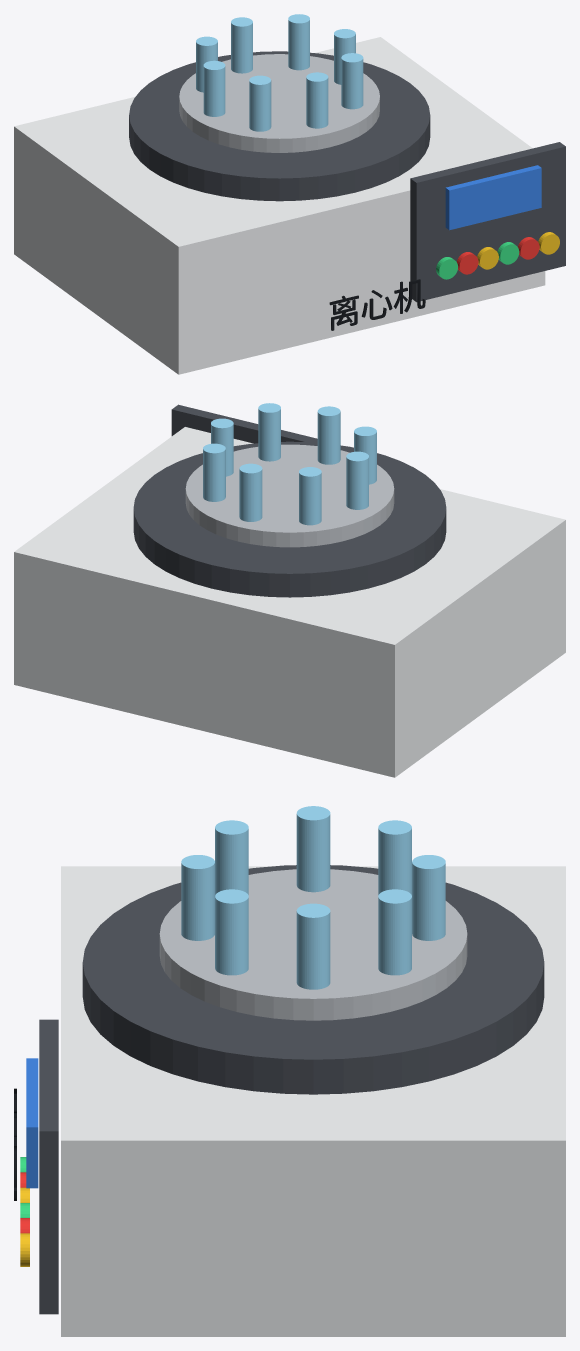
File: asset_centrifuge.glb
3 renders of one model, top to bottom at view 1: azimuth 30°, elevation 25°; view 2: azimuth 150°, elevation 25°; view 3: azimuth 270°, elevation 25°, orthographic. The views are drawn at different scales.
Parts seen in each view (by area): view 1: base, round_lid, centrifuge_panel, rotor, centrifuge_screen, asset_label, tube_6, tube_5, tube_7, tube_4, tube_2, tube_1 (+2 smaller); view 2: base, round_lid, rotor, centrifuge_panel, tube_6, tube_2, tube_7, tube_3, tube_4, tube_1, tube_0, tube_5; view 3: base, round_lid, rotor, centrifuge_panel, tube_0, tube_4, tube_1, tube_7, tube_2, tube_6, tube_5, tube_3 (+1 smaller).
Part boxes in pixels (x1=…): base: x1=14, y1=37, x2=545, y2=374; round_lid: x1=129, y1=51, x2=430, y2=201; centrifuge_panel: x1=410, y1=142, x2=565, y2=302; rotor: x1=179, y1=54, x2=379, y2=152; centrifuge_screen: x1=445, y1=165, x2=541, y2=230; asset_label: x1=329, y1=279, x2=425, y2=330; tube_6: x1=306, y1=72, x2=328, y2=128; tube_5: x1=249, y1=75, x2=271, y2=131; tube_7: x1=341, y1=53, x2=363, y2=109; tube_4: x1=203, y1=60, x2=225, y2=116; tube_2: x1=231, y1=17, x2=252, y2=73; tube_1: x1=288, y1=14, x2=309, y2=70; base: x1=14, y1=427, x2=565, y2=777; round_lid: x1=133, y1=441, x2=446, y2=597; rotor: x1=185, y1=444, x2=394, y2=547; centrifuge_panel: x1=171, y1=404, x2=317, y2=443; tube_6: x1=317, y1=406, x2=340, y2=464; tube_2: x1=239, y1=463, x2=262, y2=521; tube_7: x1=258, y1=403, x2=280, y2=461; tube_3: x1=299, y1=467, x2=321, y2=525; tube_4: x1=346, y1=451, x2=368, y2=509; tube_1: x1=203, y1=443, x2=225, y2=501; tube_0: x1=211, y1=418, x2=233, y2=476; tube_5: x1=354, y1=426, x2=376, y2=484; base: x1=61, y1=866, x2=565, y2=1336; round_lid: x1=82, y1=865, x2=544, y2=1094; rotor: x1=159, y1=869, x2=467, y2=1020; centrifuge_panel: x1=39, y1=1019, x2=58, y2=1314; tube_0: x1=296, y1=903, x2=330, y2=989; tube_4: x1=296, y1=806, x2=330, y2=892; tube_1: x1=378, y1=889, x2=411, y2=975; tube_7: x1=215, y1=889, x2=248, y2=975; tube_2: x1=412, y1=855, x2=445, y2=940; tube_6: x1=181, y1=855, x2=214, y2=940; tube_5: x1=215, y1=820, x2=248, y2=895; tube_3: x1=378, y1=820, x2=411, y2=895.
Size of the model in its own units: 1.4 by 0.775 by 1.15.
